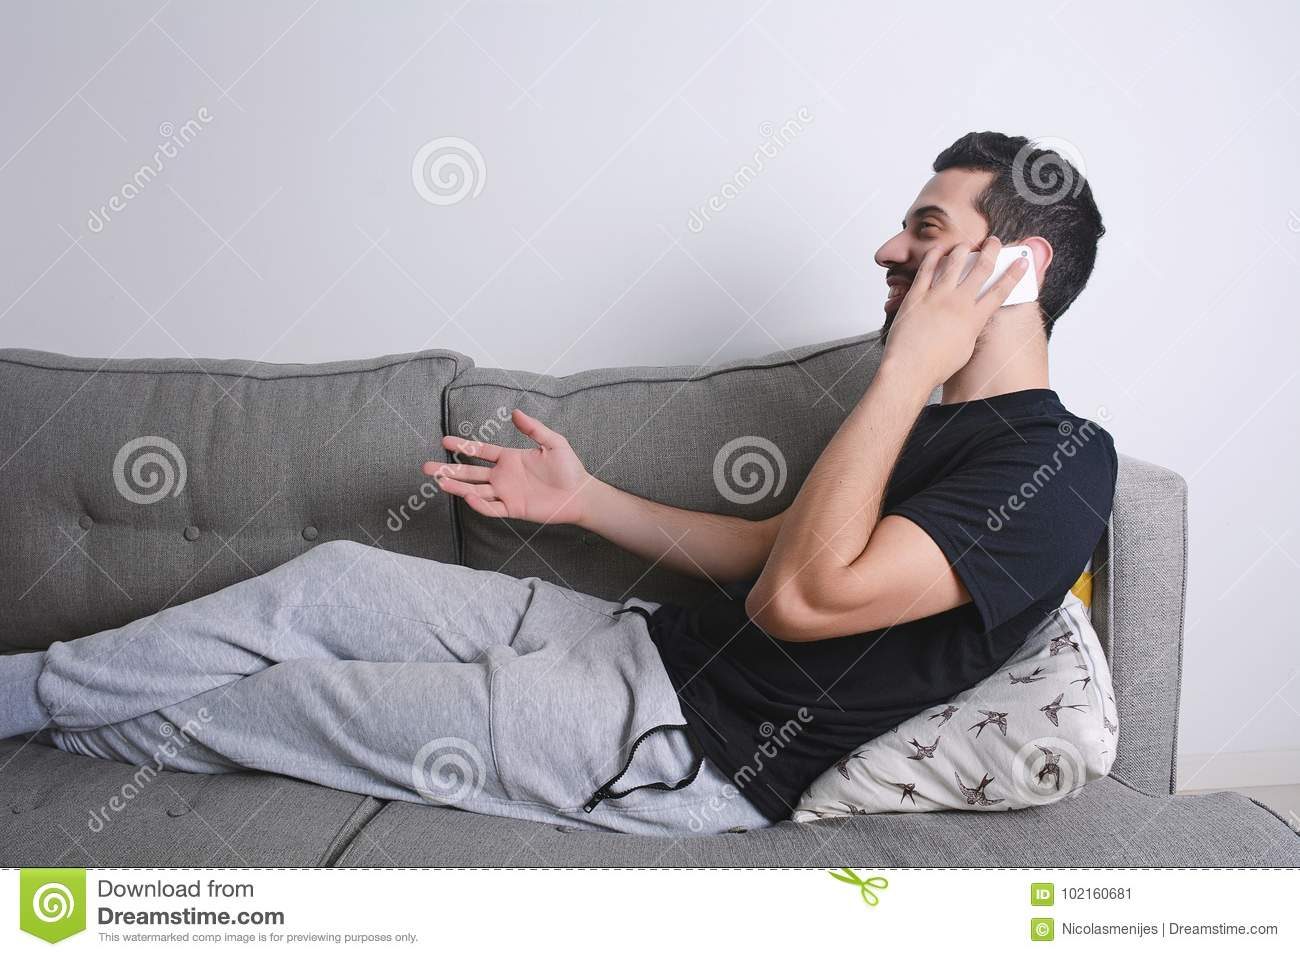phone: (929, 246, 1041, 312)
talk: (869, 195, 1041, 387)
